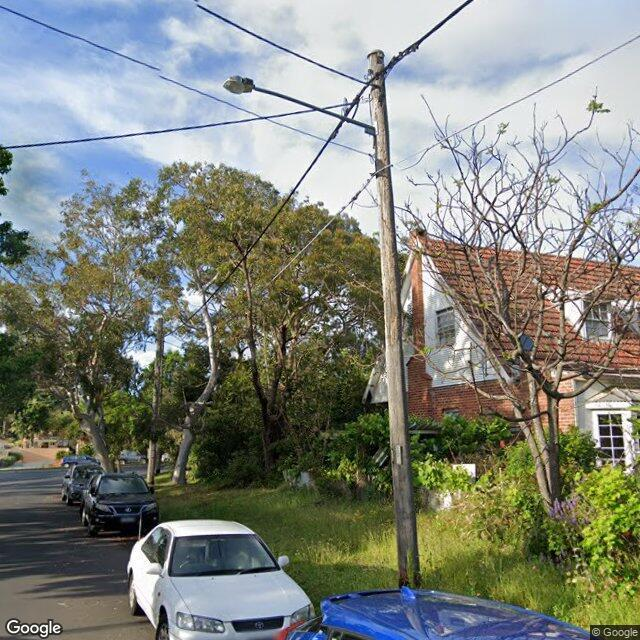streetlight: (224, 74, 378, 135)
timber-pole: (367, 48, 422, 590), (146, 317, 166, 486)
